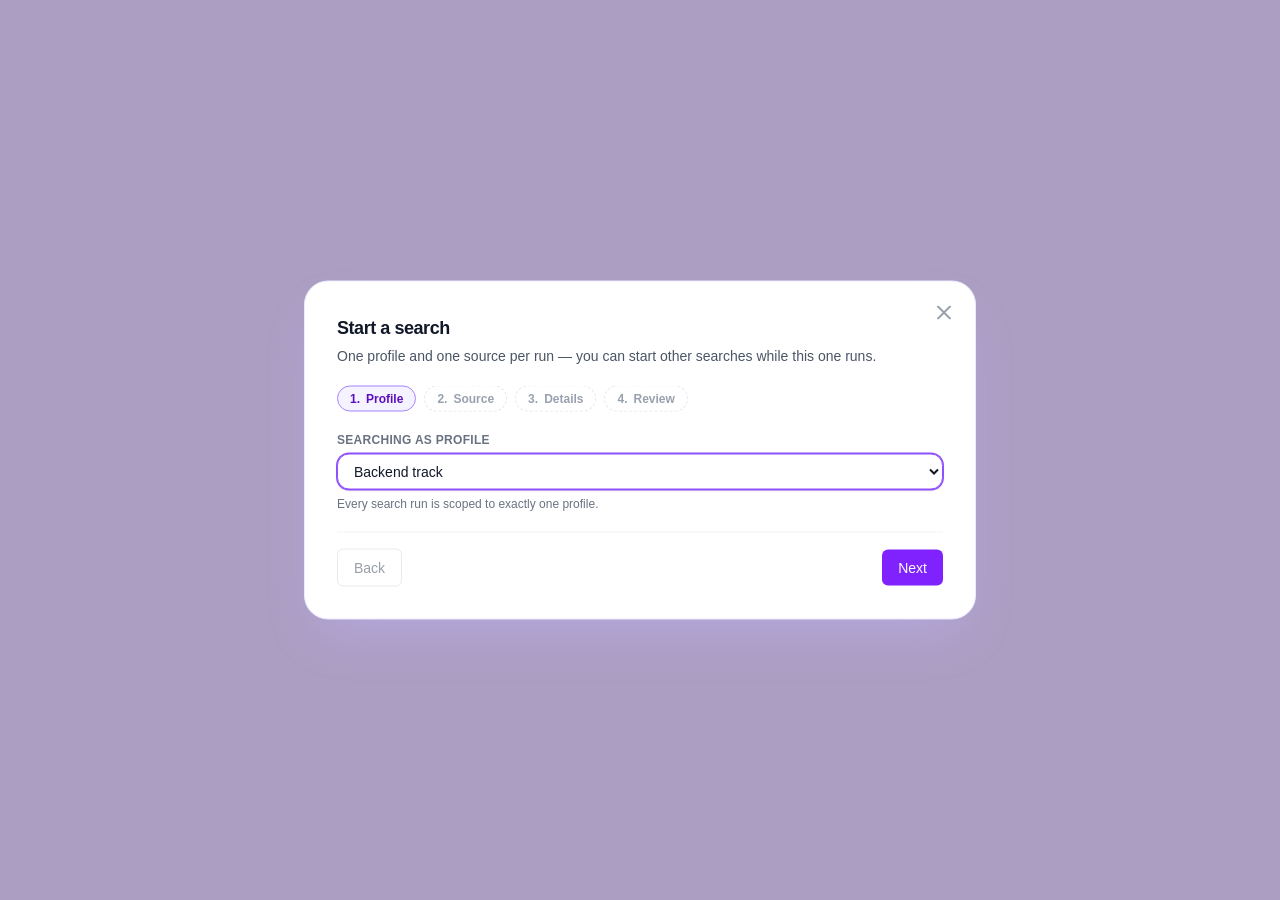
Test case: SearchStepperModal › details hosts the source filters accordion; review lists every field without starting a run
This screenshot has width=1280, height=900.
Expected: the text "Profile" is shown, [366,390,403,406]
Step 1. Click the button "Next" → point(913, 568), box [882,550,943,586]
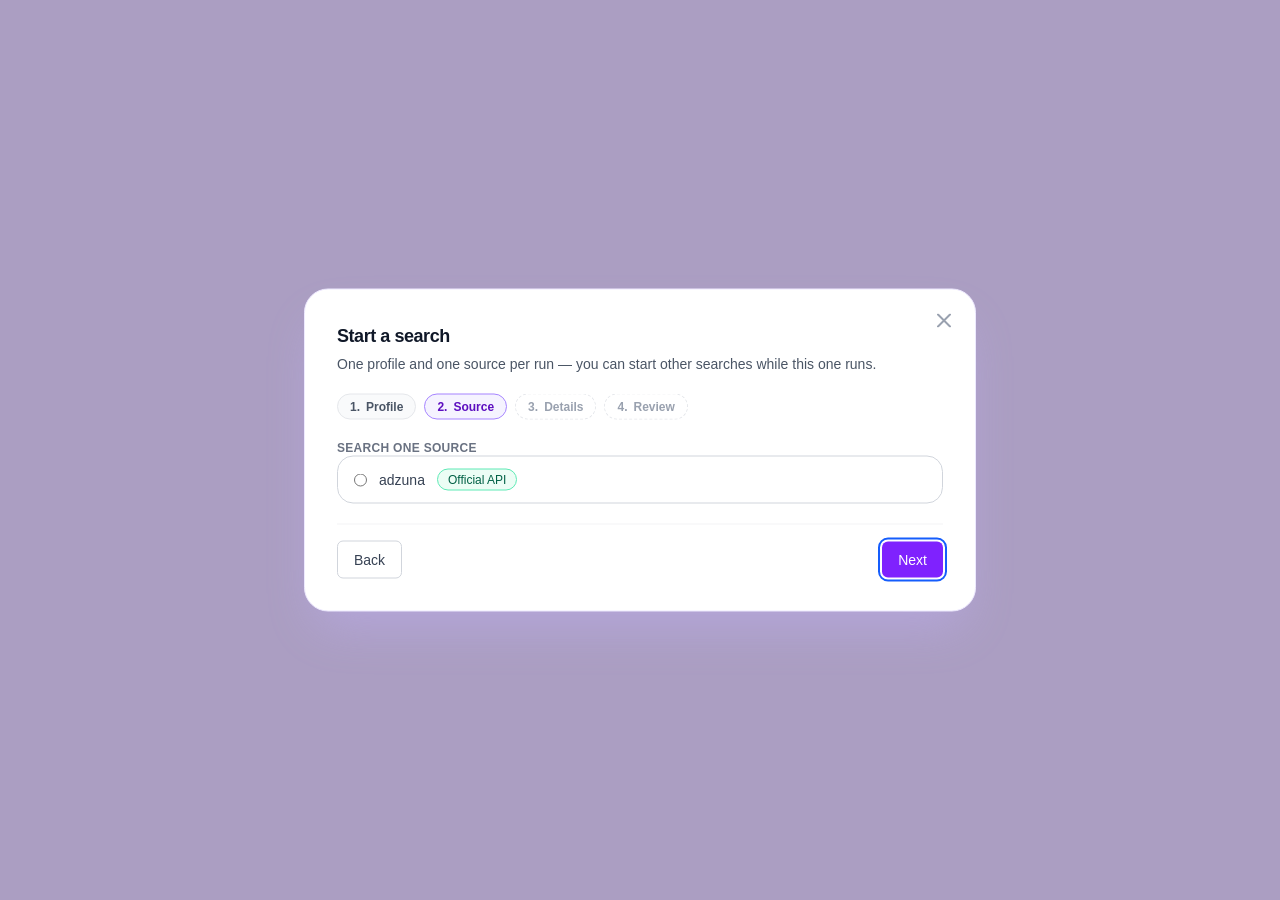
Step 2. Click the radio button with aria-label "Search adzuna" → point(360, 480), box [354,473,367,486]
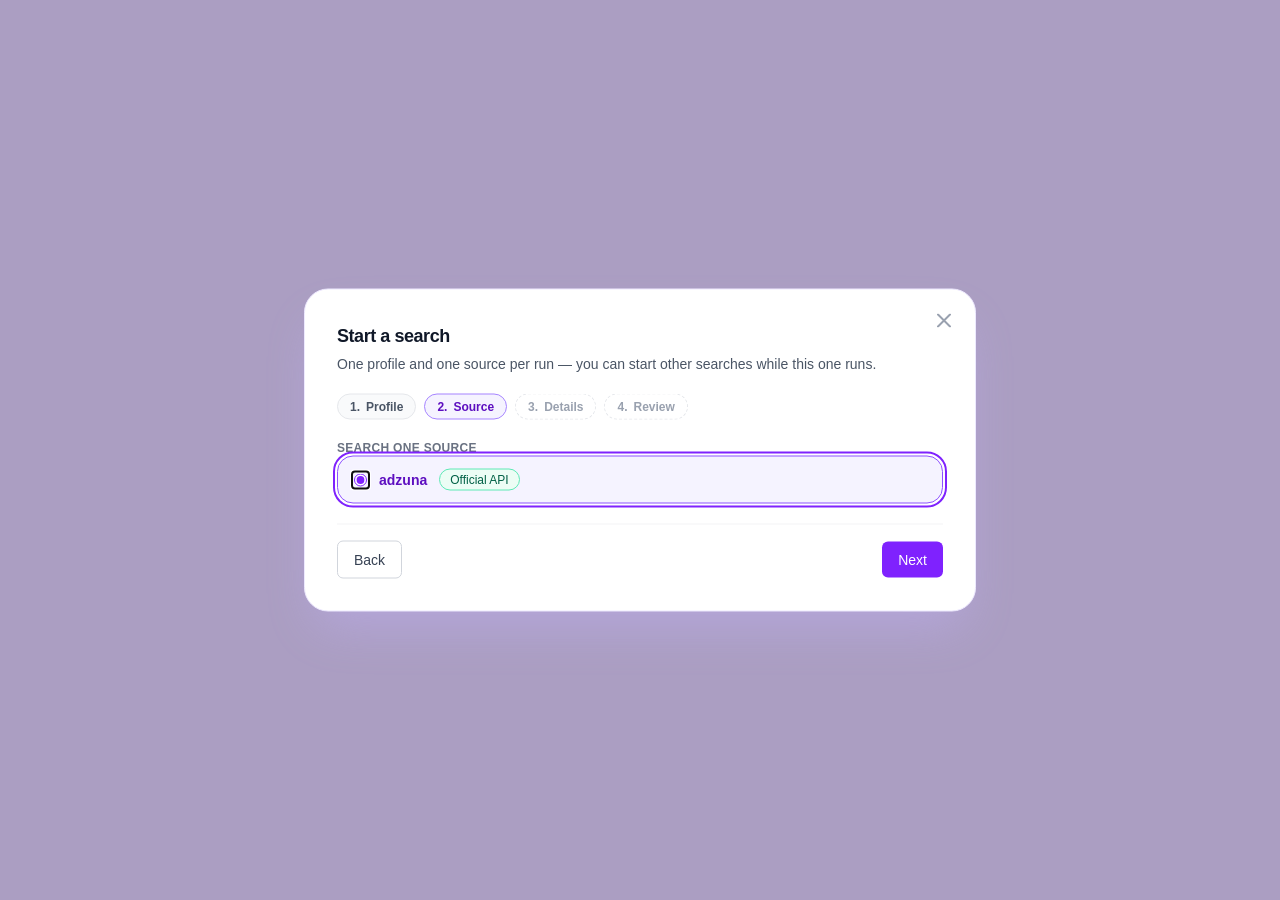
Step 3. Click the button "Next" → point(913, 560), box [882,542,943,578]
(page scrolled)
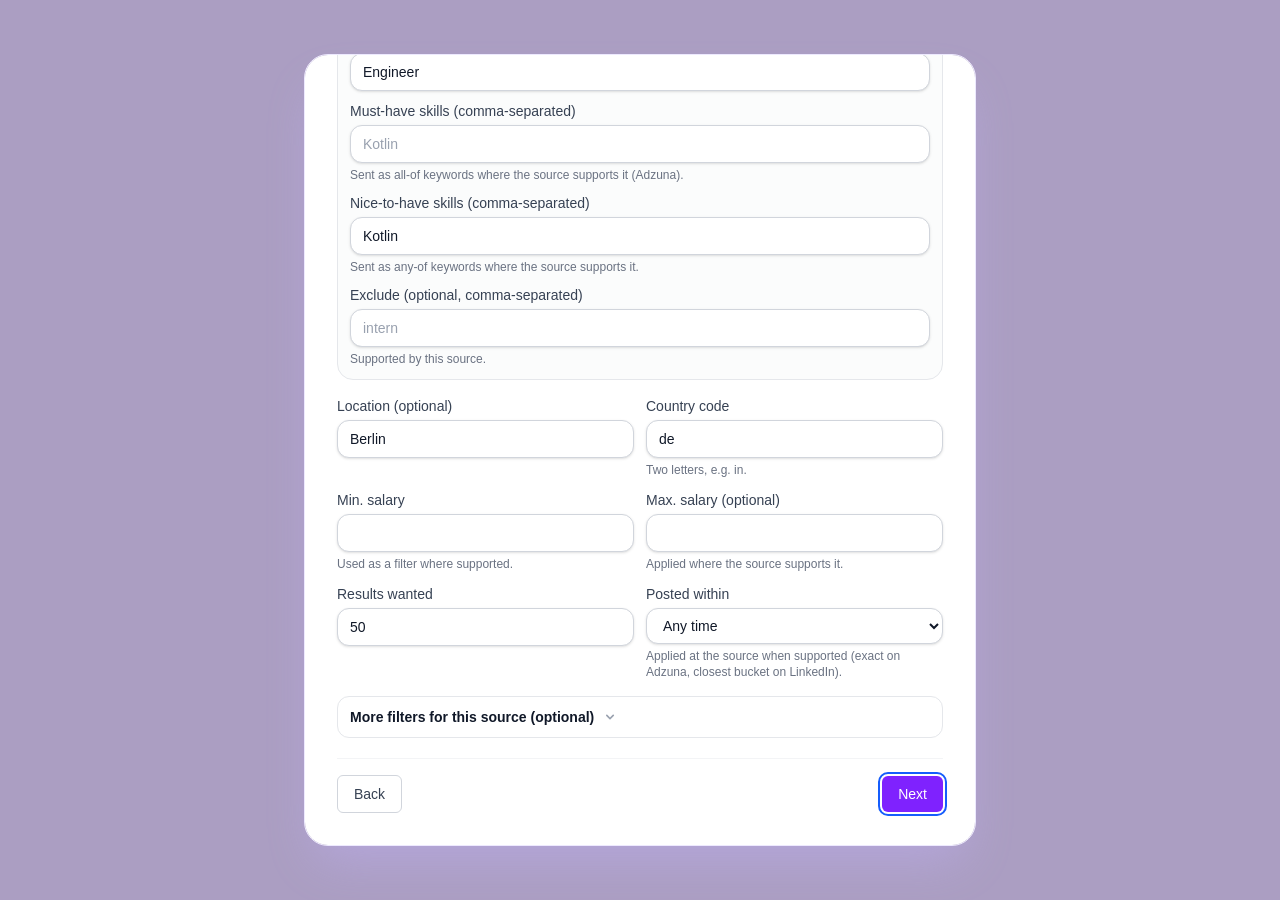
Expected: the button "More filters for this source (optional)" is shown
Step 4. Click the button "More filters for this source (optional)" → point(472, 717), box [338,697,942,737]
(page scrolled)
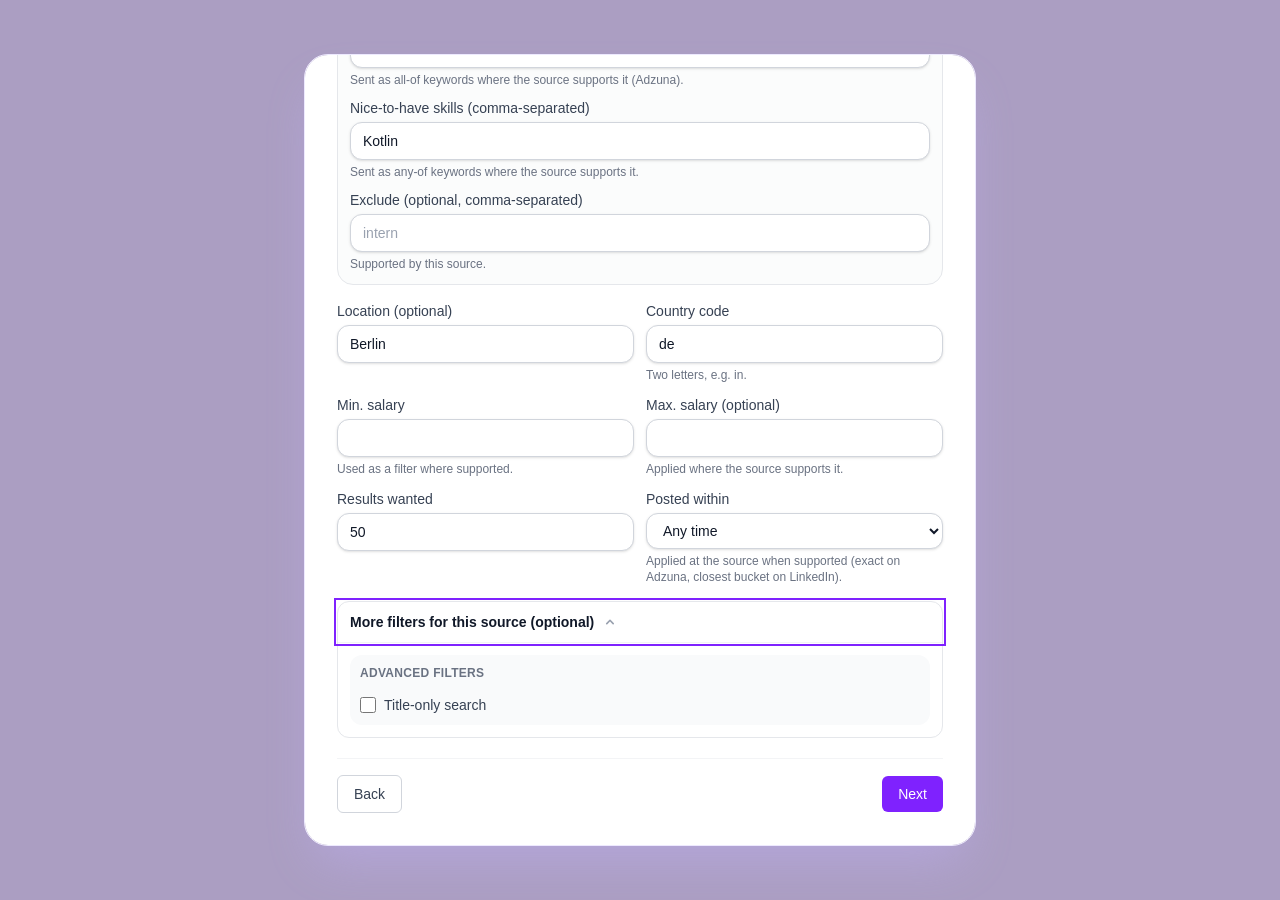
Expected: the checkbox labelled "Title-only search" is shown, [360,697,376,713]
Step 5. Click the button "Next" → point(913, 794), box [882,776,943,812]
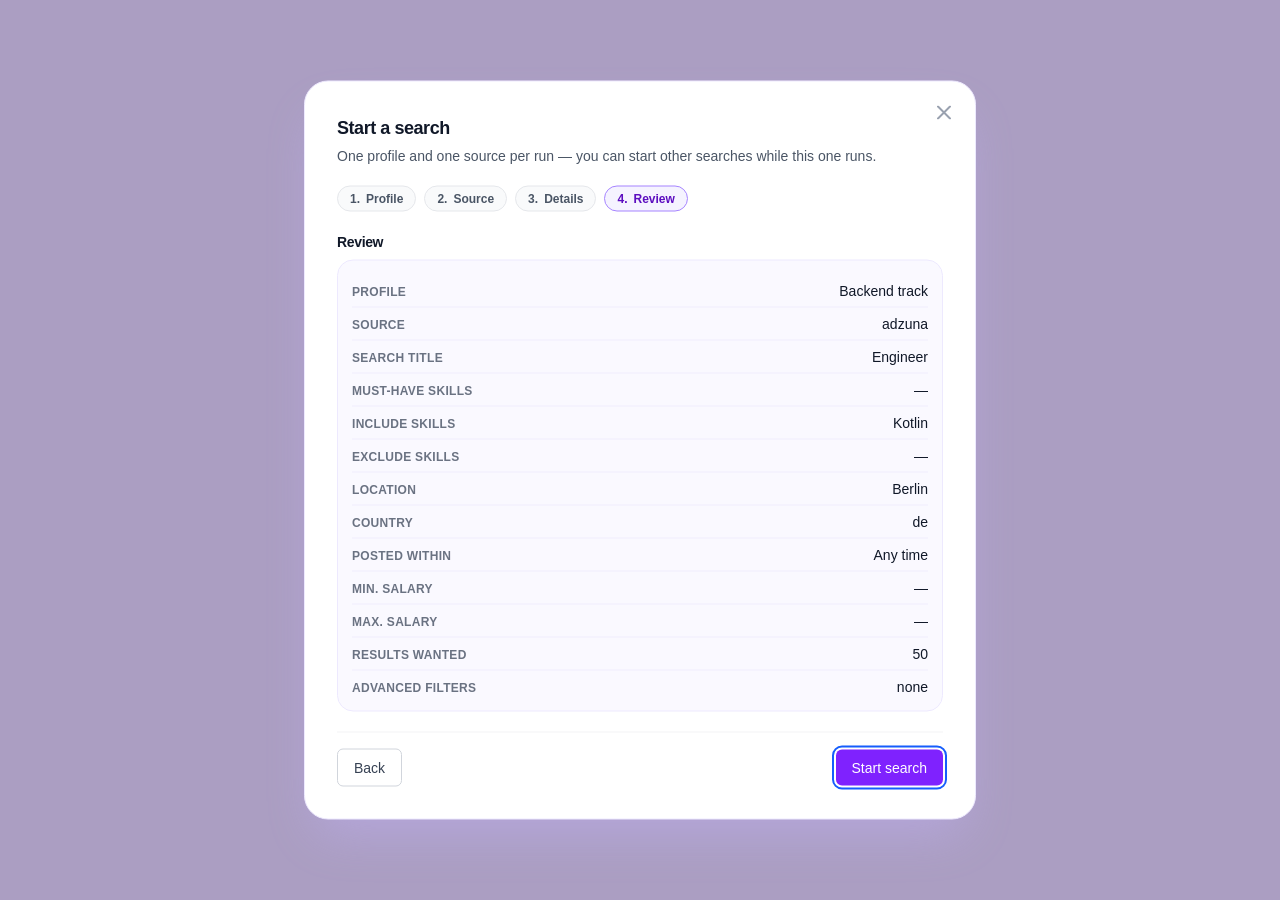
Expected: the element named "Review of the search" shows "Review", [337,234,383,250]
Expected: the element named "Review of the search" shows "Profile", [352,284,406,298]
Expected: the element named "Review of the search" shows "Posted within", [352,548,451,562]
